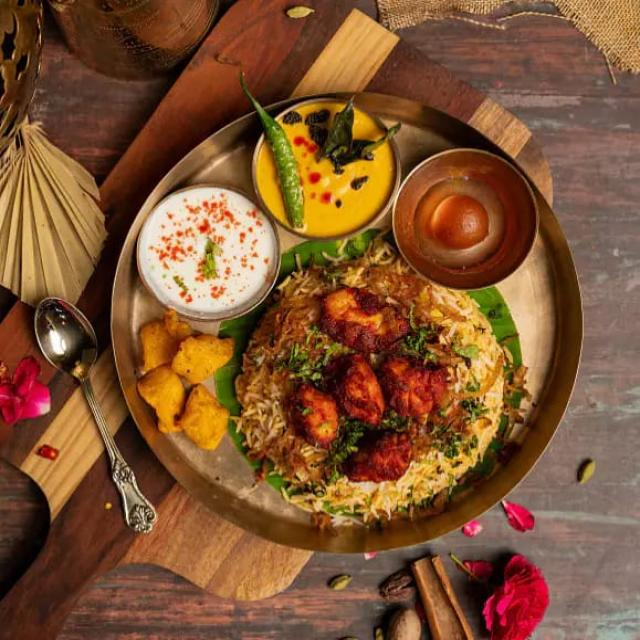non veg meals: (115, 81, 569, 538)
